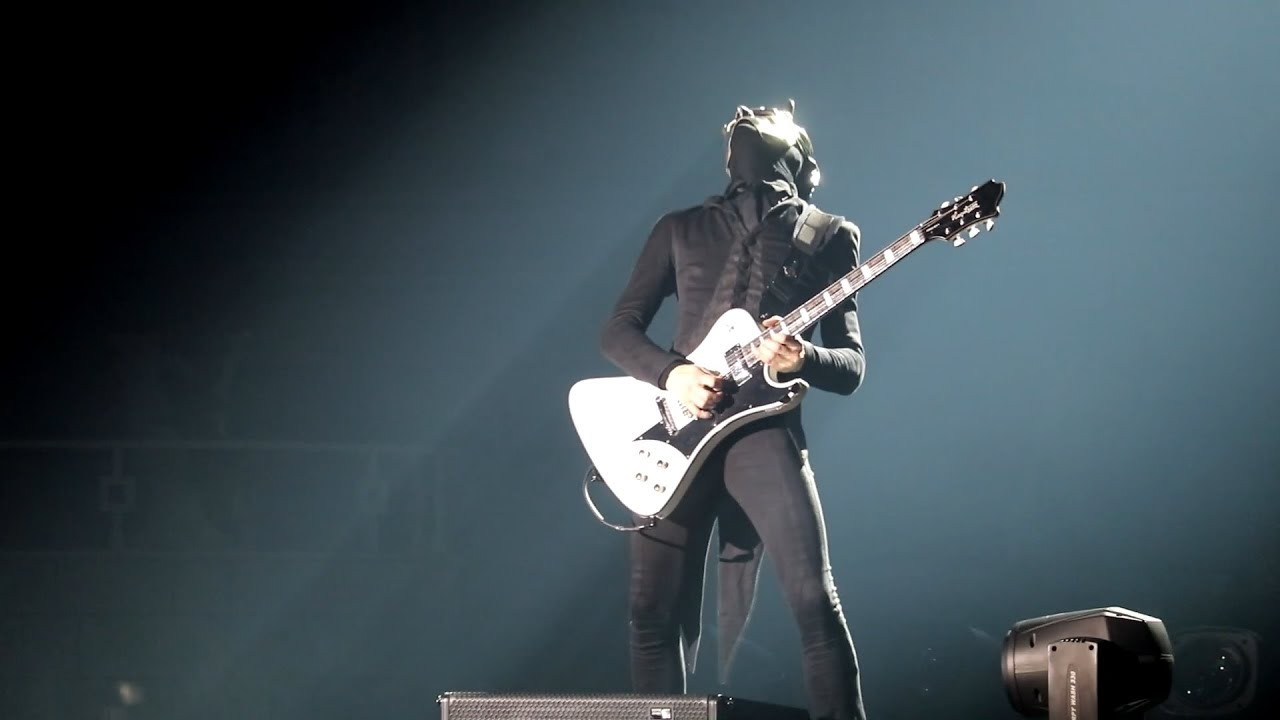acousticguitar: (564, 174, 1011, 532)
